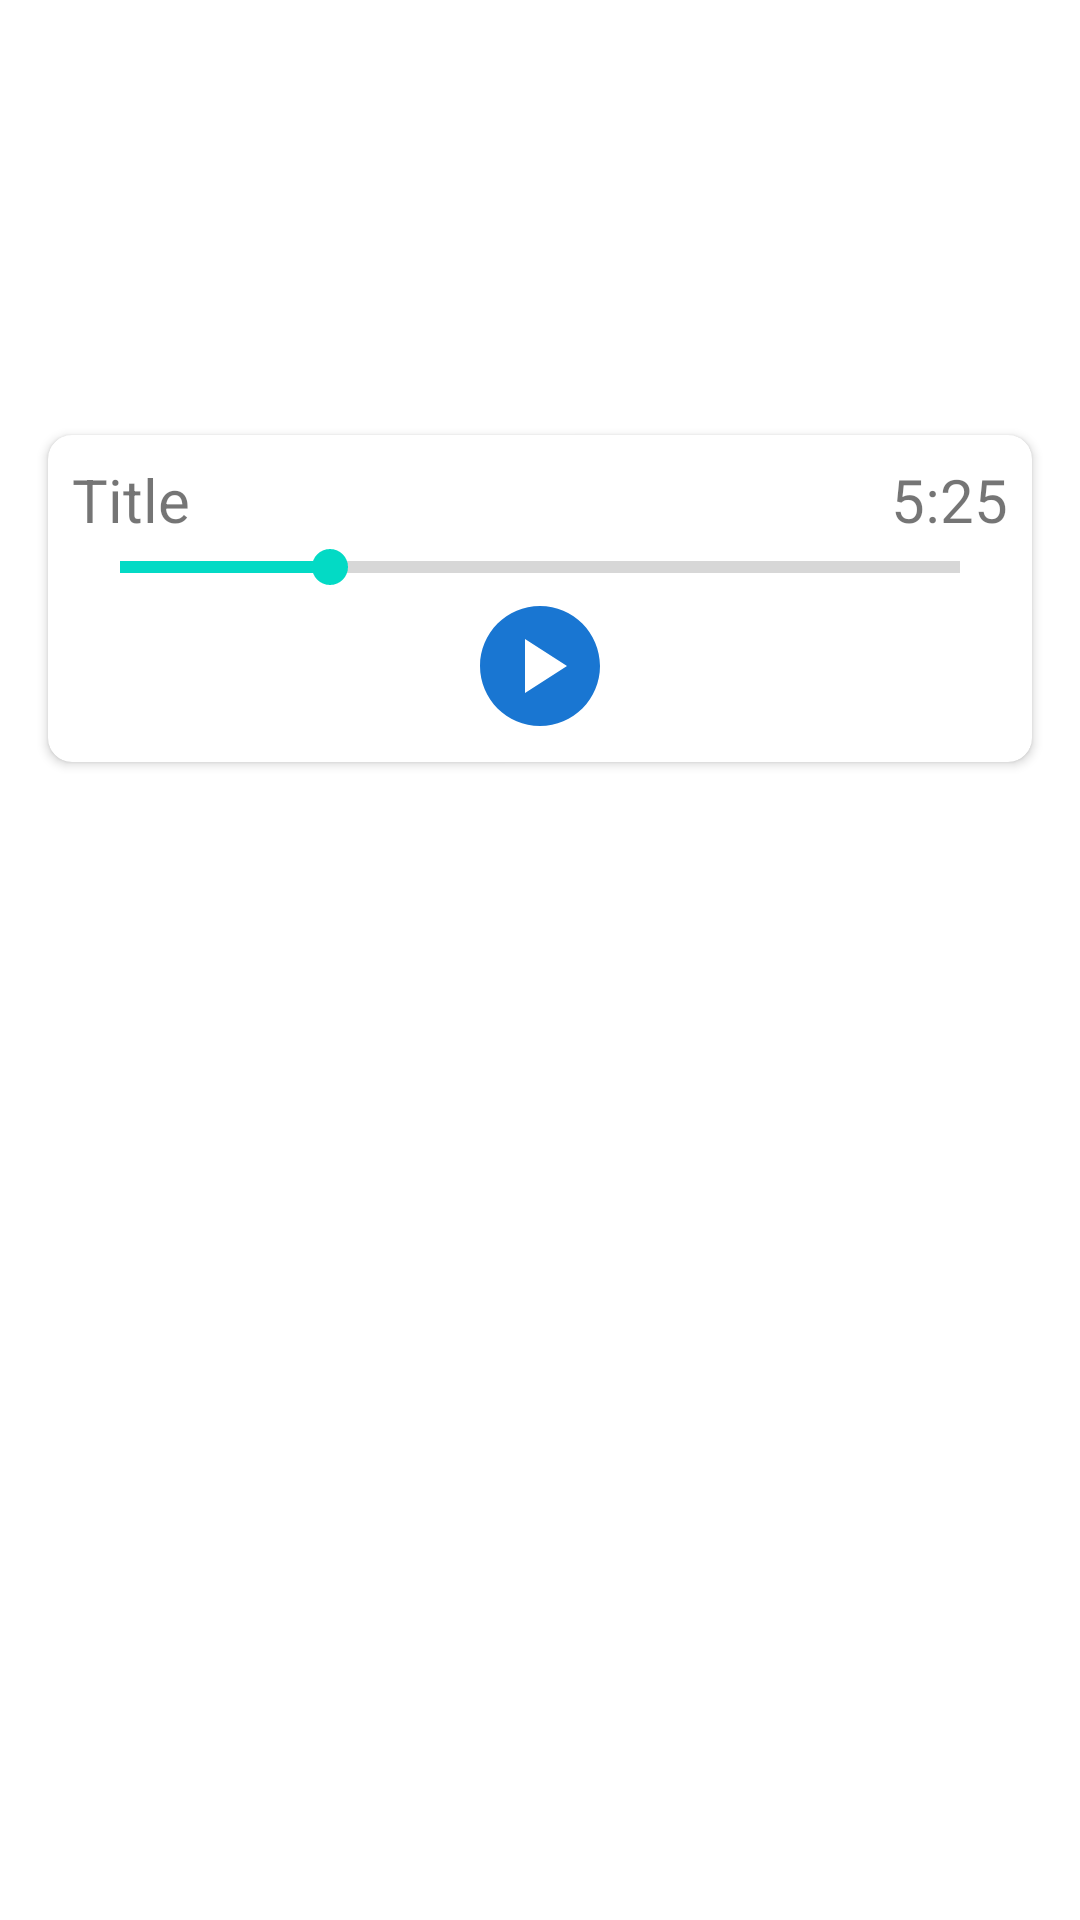

Locate icon controls on the screen. Image size 1080x1920, boxes as (x1, y1, x2, y2).
play: (480, 606, 600, 726)
